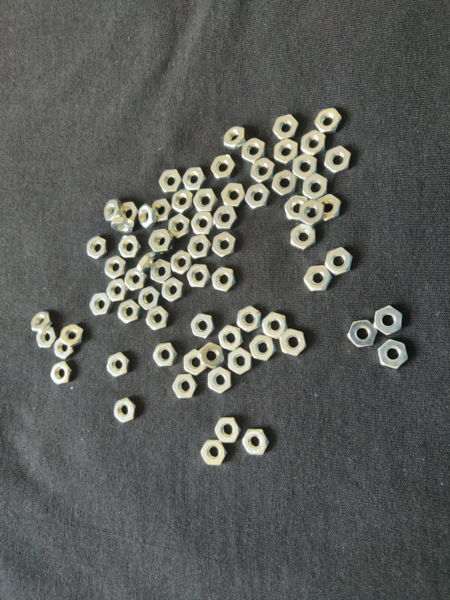nut: (378, 340, 409, 370), (374, 306, 403, 335), (348, 321, 378, 348), (324, 146, 352, 174), (325, 248, 353, 276), (262, 312, 289, 340), (280, 329, 307, 357), (315, 194, 342, 222), (304, 266, 332, 292), (200, 440, 227, 466), (242, 430, 269, 456), (199, 342, 225, 369), (250, 335, 276, 362), (272, 170, 298, 197), (273, 114, 299, 141), (292, 153, 317, 181), (291, 223, 316, 251), (215, 418, 241, 444), (218, 325, 244, 351), (237, 306, 262, 333), (315, 108, 342, 133), (284, 195, 311, 220), (303, 173, 328, 200), (300, 199, 324, 227), (211, 155, 236, 181), (246, 184, 270, 211), (228, 348, 251, 376), (172, 374, 197, 399), (187, 264, 212, 289), (212, 267, 236, 293), (212, 232, 236, 258), (275, 139, 299, 165), (301, 130, 325, 156), (184, 349, 207, 376), (153, 343, 178, 367), (145, 306, 169, 331), (191, 314, 215, 339), (251, 158, 275, 183), (242, 138, 266, 163), (161, 277, 184, 303), (182, 168, 208, 191), (114, 398, 136, 425), (209, 367, 231, 394), (149, 229, 173, 253), (188, 235, 212, 259), (191, 211, 215, 235), (214, 206, 238, 230), (222, 183, 246, 207), (89, 293, 114, 316), (193, 189, 218, 212), (224, 126, 247, 151), (168, 214, 190, 240), (118, 300, 141, 324), (159, 170, 183, 193), (107, 352, 129, 377), (171, 190, 194, 213), (50, 362, 72, 386), (105, 256, 127, 280), (125, 268, 147, 292), (118, 236, 142, 258), (138, 286, 160, 310), (171, 250, 192, 275), (60, 325, 83, 347), (107, 279, 128, 303), (87, 235, 108, 259), (151, 259, 171, 284), (153, 199, 173, 223), (138, 204, 157, 229), (36, 327, 57, 349), (30, 312, 53, 332), (104, 199, 124, 222), (54, 338, 74, 359), (137, 252, 157, 273), (121, 202, 139, 223), (111, 218, 135, 233)
